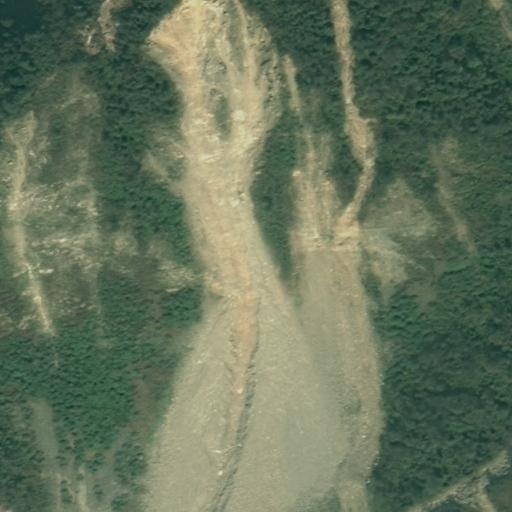landslide: (140, 1, 391, 512)
